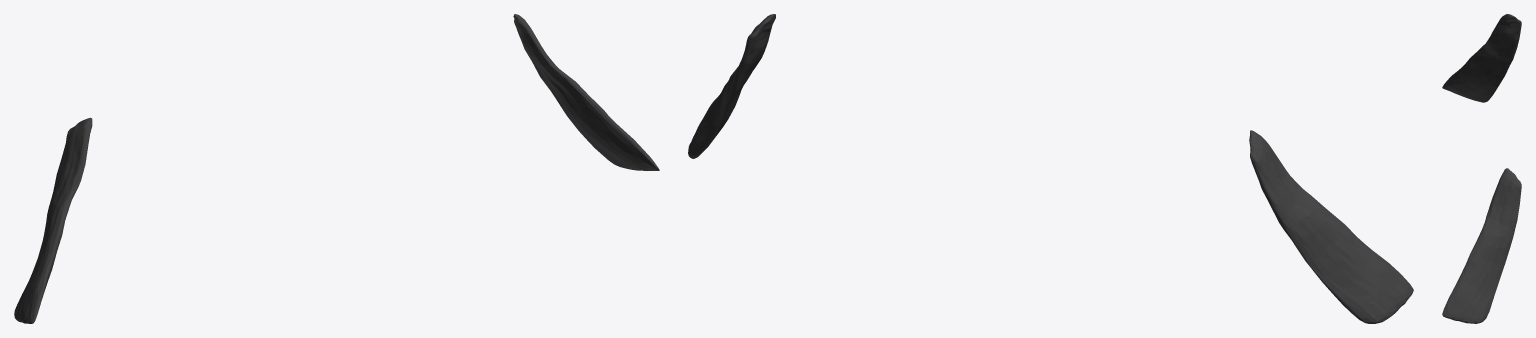
Rendered from m_zygomaticauricular.glb.
3 views of the same model, side by side, from view 1: azimuth 30°, elevation 25°; view 2: azimuth 150°, elevation 25°; view 3: azimuth 270°, elevation 25° (orthographic). The views are drawn at different scales.
Visible parts, largest first — view 1: m_zygomaticauricular; view 2: m_zygomaticauricular; view 3: m_zygomaticauricular.
Boxes of the visible parts, <box> form: m_zygomaticauricular: <box>14,14,659,323</box>; m_zygomaticauricular: <box>688,14,1413,323</box>; m_zygomaticauricular: <box>1442,14,1521,323</box>.
Bounding box in the file's own units: 0.00289 × 0.000713 × 0.000424.
1 material, 1 textured.
